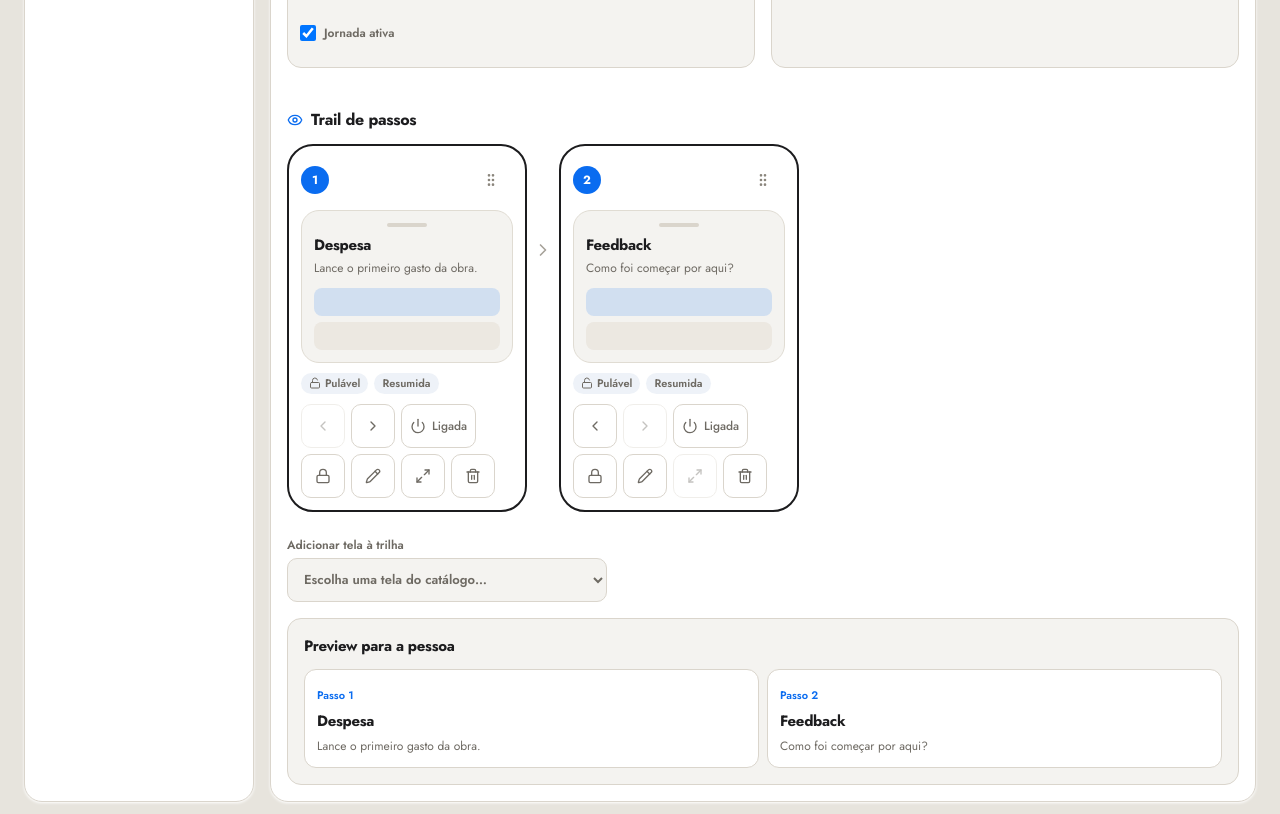
Test: AdminJornadasPage › reordena o trail e toggles a step without hard-coded step counts
The width and height of the screenshot is (1280, 814).
(page scrolled)
Expected: the list with test id "journey-track" is shown, [287,144,799,512]
Expected: the list item with test id "journey-card-" is shown, [287,144,527,512]
What coordinates should you click on to do the following:
click the button named "Mover \"Feedback\" para antes"
I would click on:
 (595, 426)
Its box is [573,404,617,448].
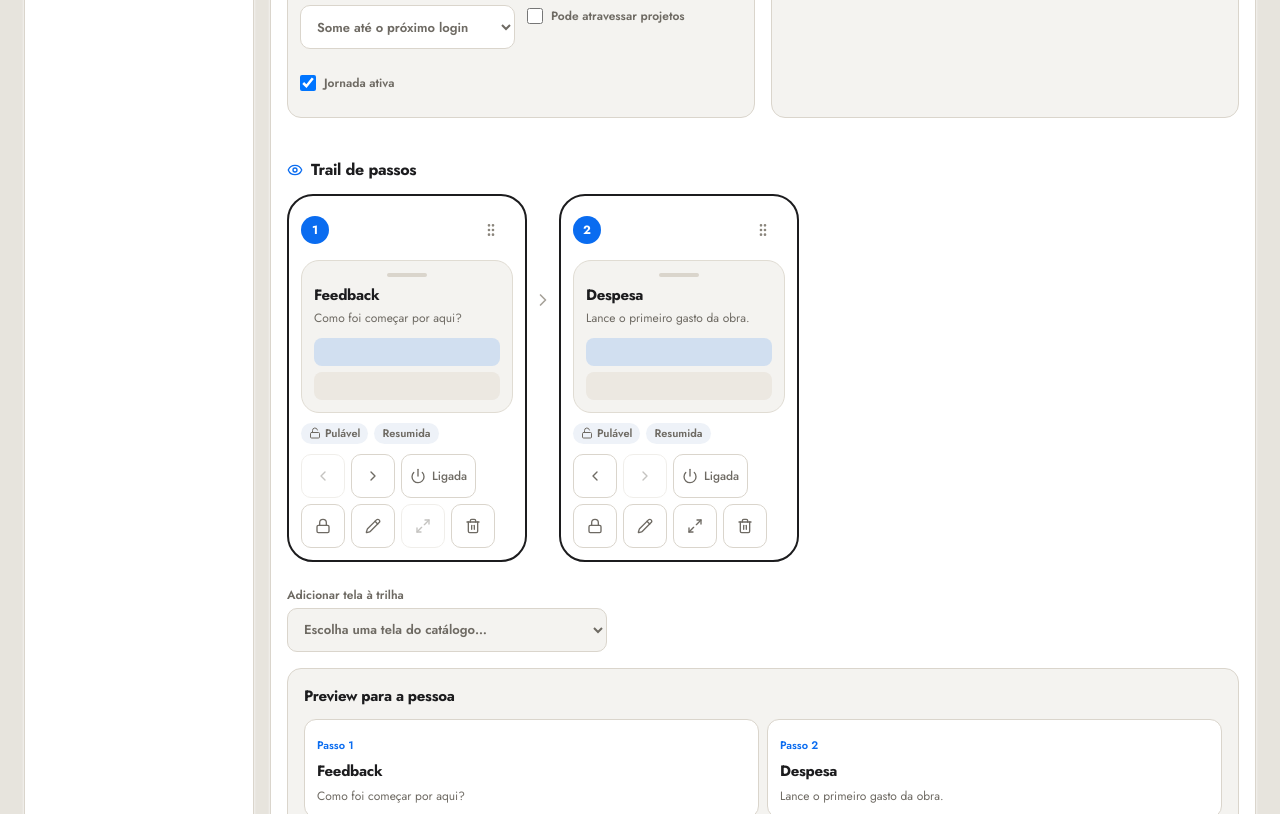
Expected: the 1st heading with test id "journey-step-label" reads "Feedback", [314,284,379,306]
What coordinates should you click on to do the following:
click the button with aria-label "desligar"
I would click on:
 (439, 476)
Its box is [401,454,476,498].
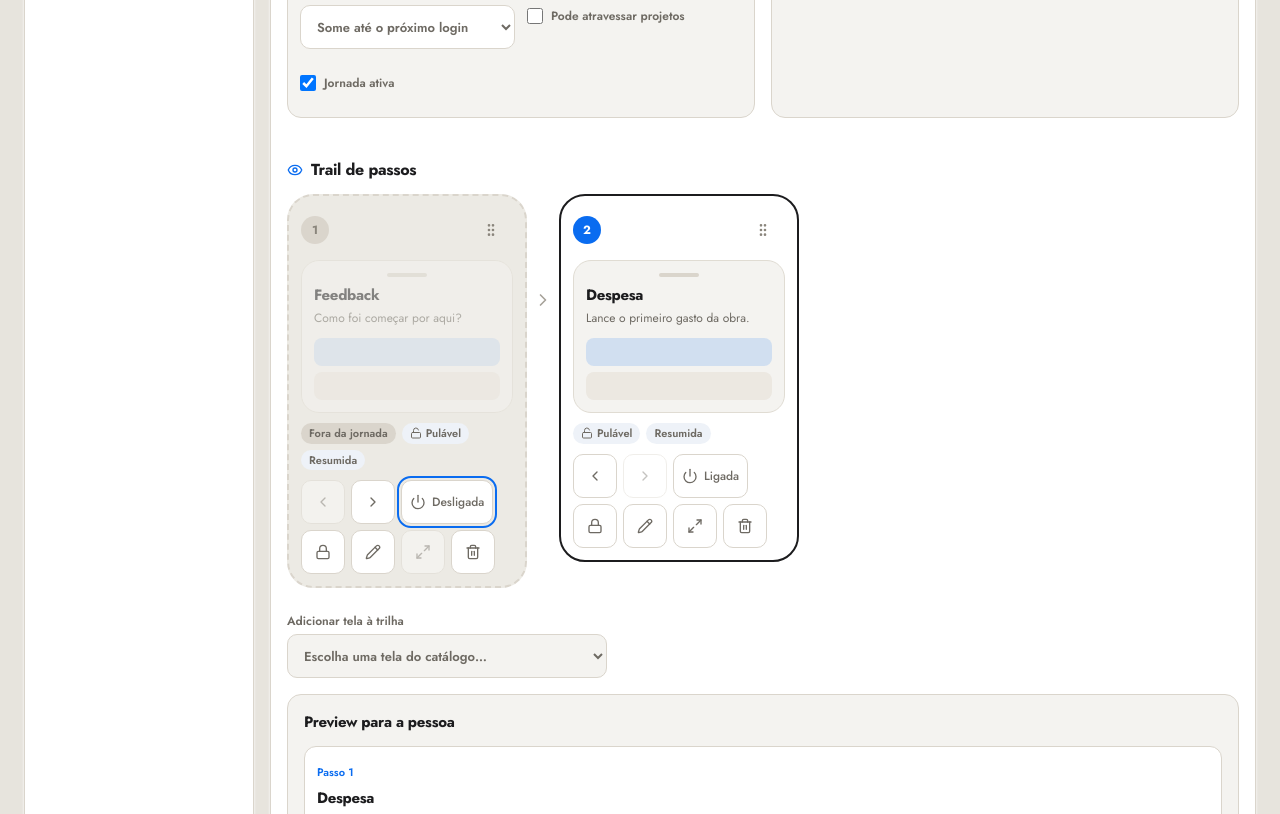
Now the text "Fora da jornada" is shown, box [301,423,396,444]
